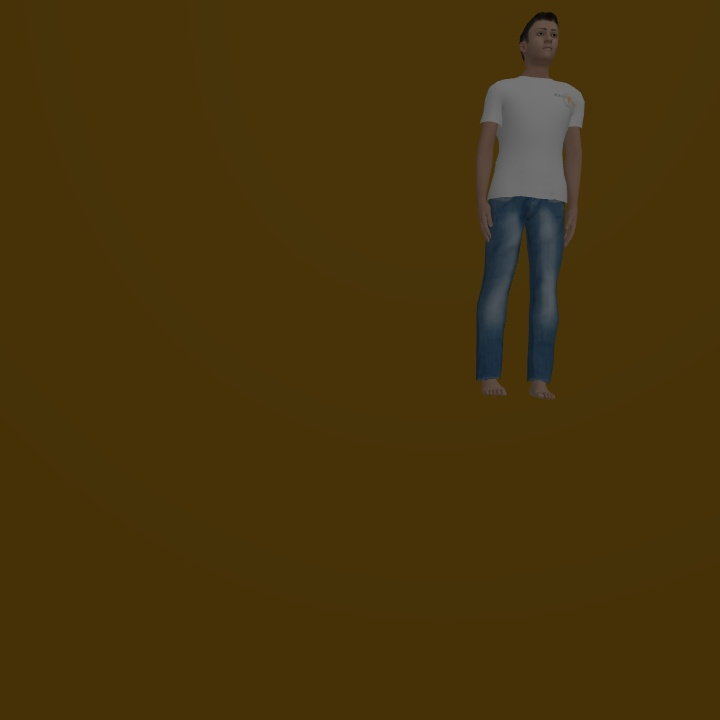victim: (472, 8, 585, 402)
